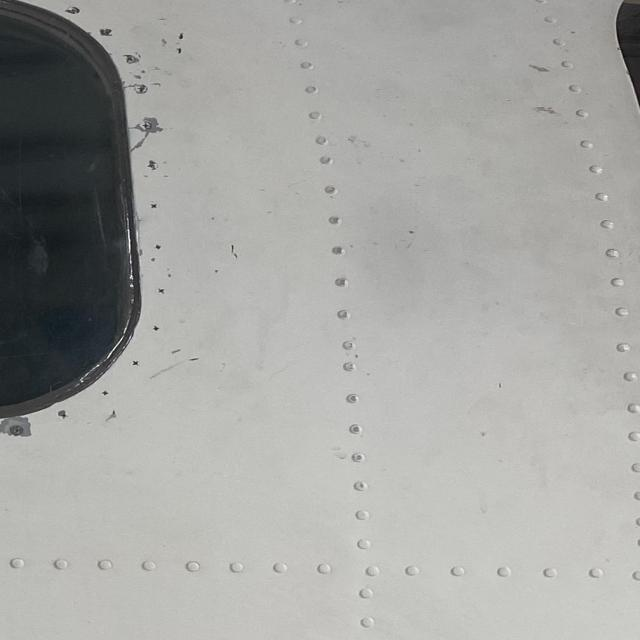Paint-off: (527, 103, 574, 121), (167, 344, 201, 362), (0, 418, 32, 437), (524, 63, 556, 73), (147, 250, 166, 265), (208, 269, 223, 275), (164, 276, 169, 280)
Scratch: (130, 130, 153, 154)
